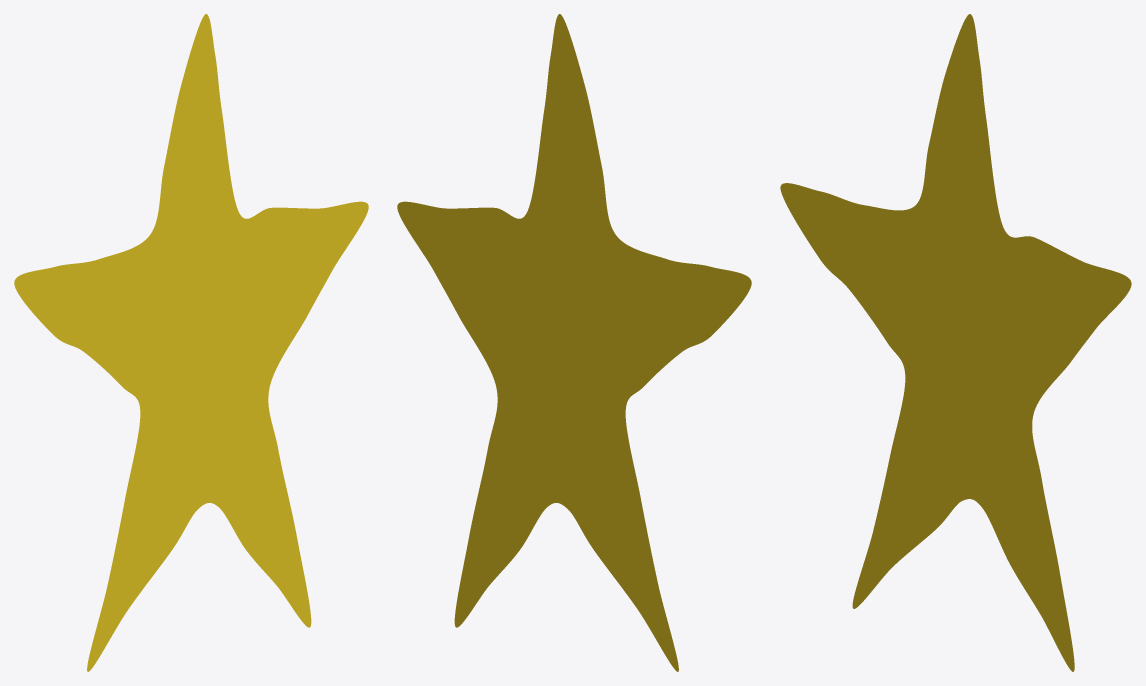
Rendered from stella.obj.
3 views of the same model, side by side, from view 1: azimuth 30°, elevation 25°; view 2: azimuth 150°, elevation 25°; view 3: azimuth 330°, elevation 25° (orthographic).
Visible parts, largest first — view 1: Curva_1; view 2: Curva_1; view 3: Curva_1.
Part boxes in pixels (<box>): Curva_1: <box>14,14,368,671</box>; Curva_1: <box>397,14,751,671</box>; Curva_1: <box>780,14,1131,671</box>.
Size of the model in its own units: 0.5414 by 0.9324 by 0.
